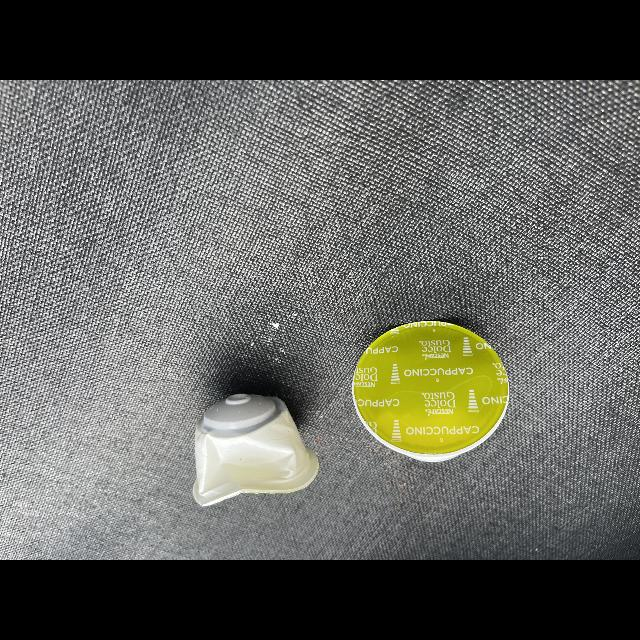damaged_capsule: (184, 376, 328, 522)
intact_capsule: (344, 310, 522, 468)
